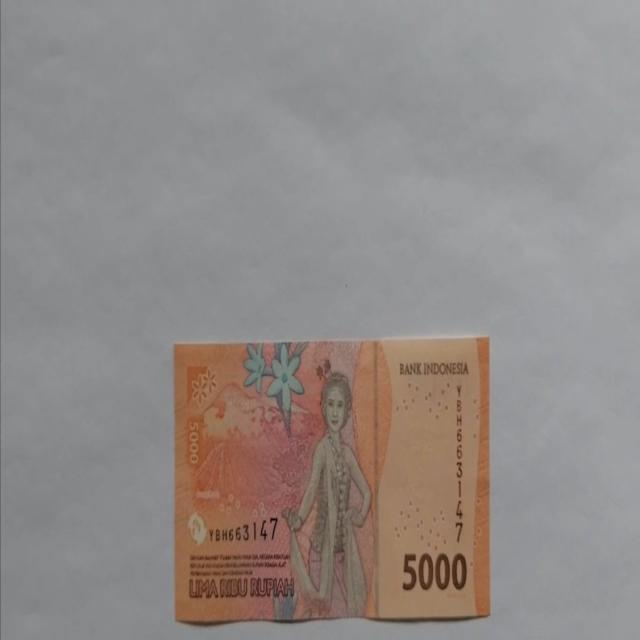lima ribu rupiah: (173, 336, 491, 624), (281, 370, 374, 620)
